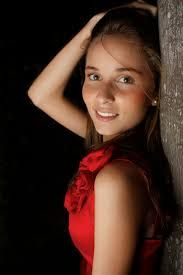no-mask: (70, 14, 159, 142)
